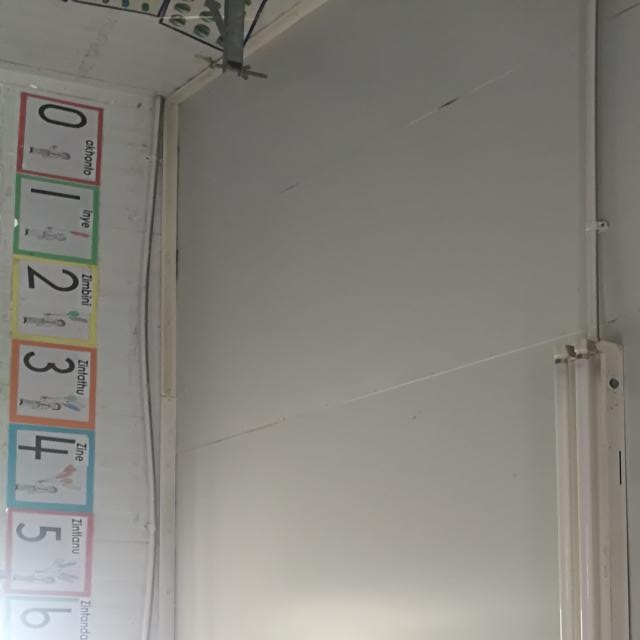fluorescent tube: (534, 345, 640, 640)
